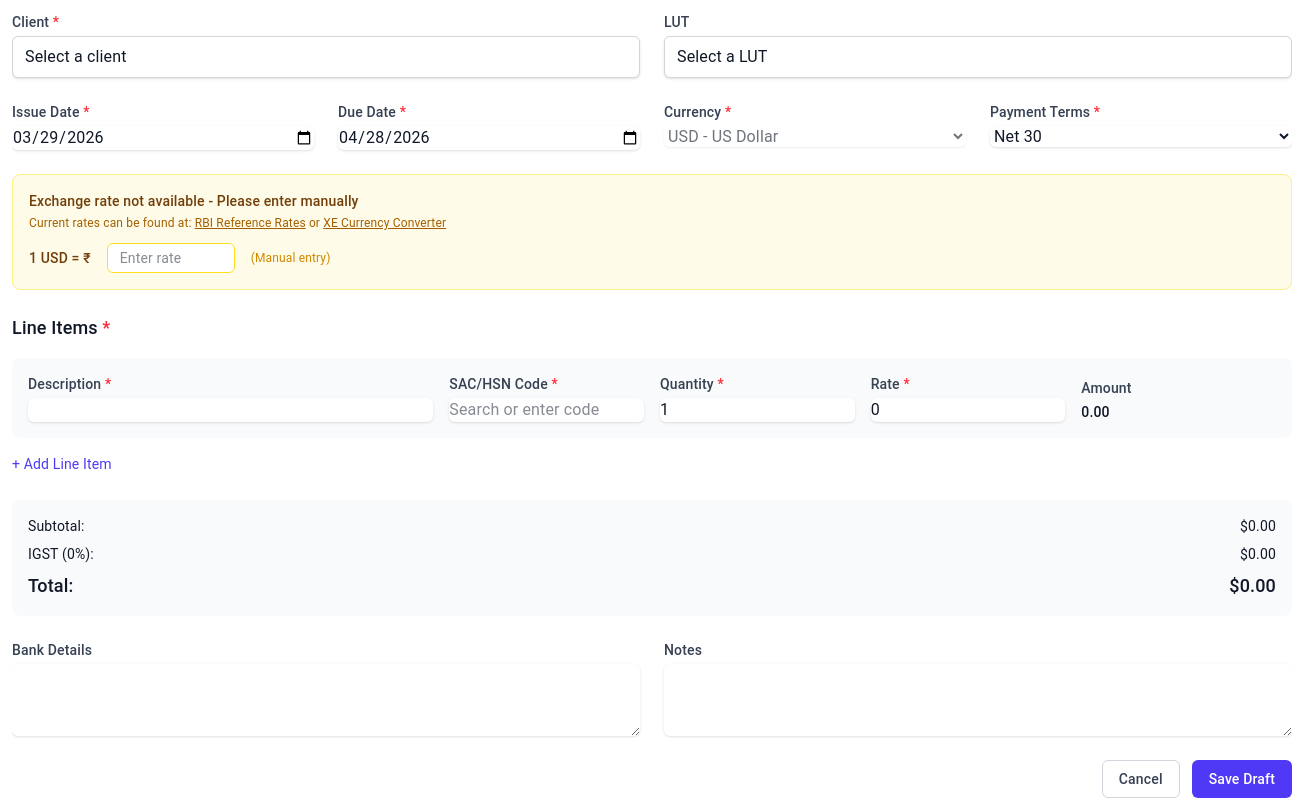
Test: InvoiceForm › should validate required fields before submission
Note: Try to submit without filling required fields
Click the button "Save Draft".
click(1242, 779)  # box x1=1192 y1=760 x2=1292 y2=798
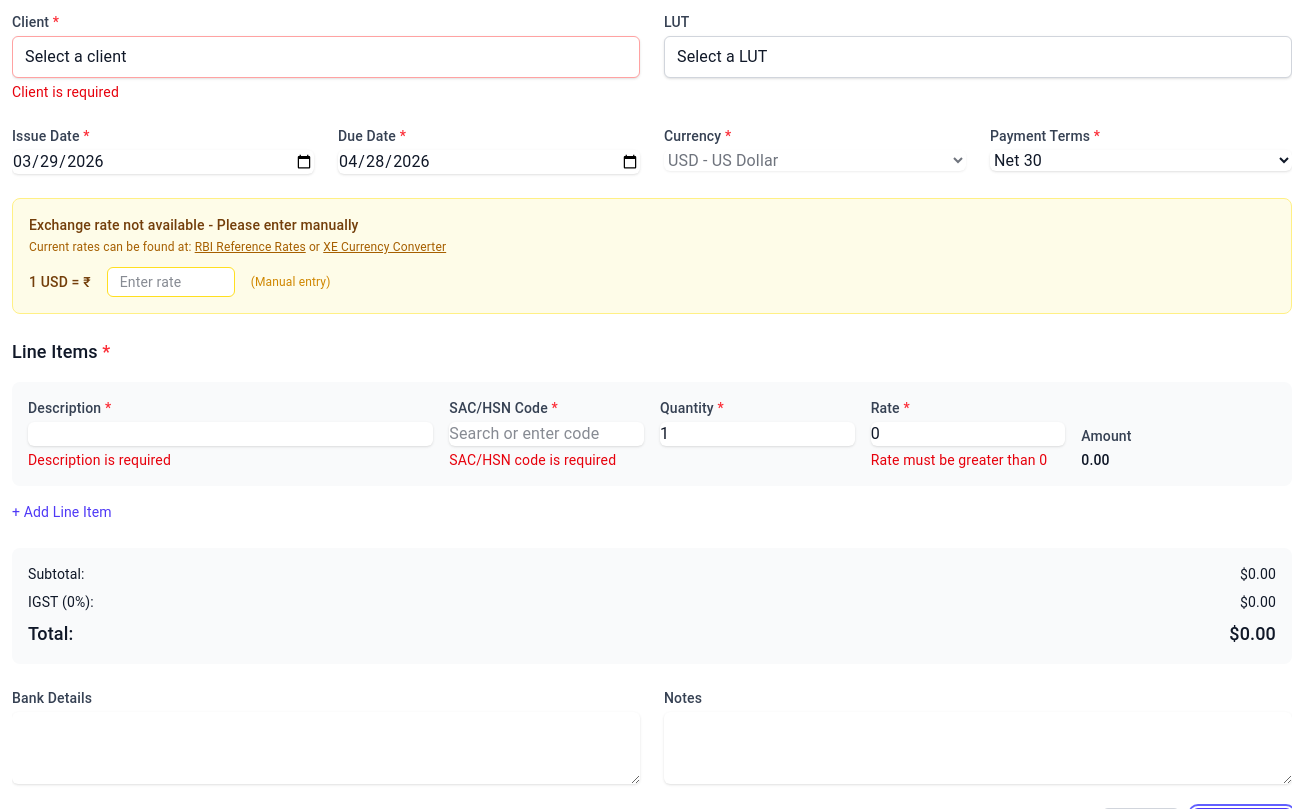
Now the text "Client is required" is shown, box x1=12 y1=84 x2=119 y2=100
Now the text "Description is required" is shown, box x1=28 y1=452 x2=171 y2=468
